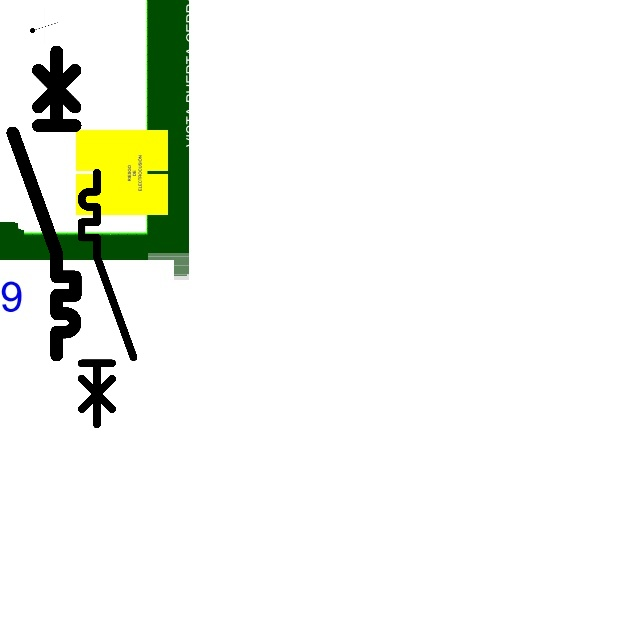interruptor_termomagnetico: (5, 44, 83, 363), (75, 166, 140, 431)
